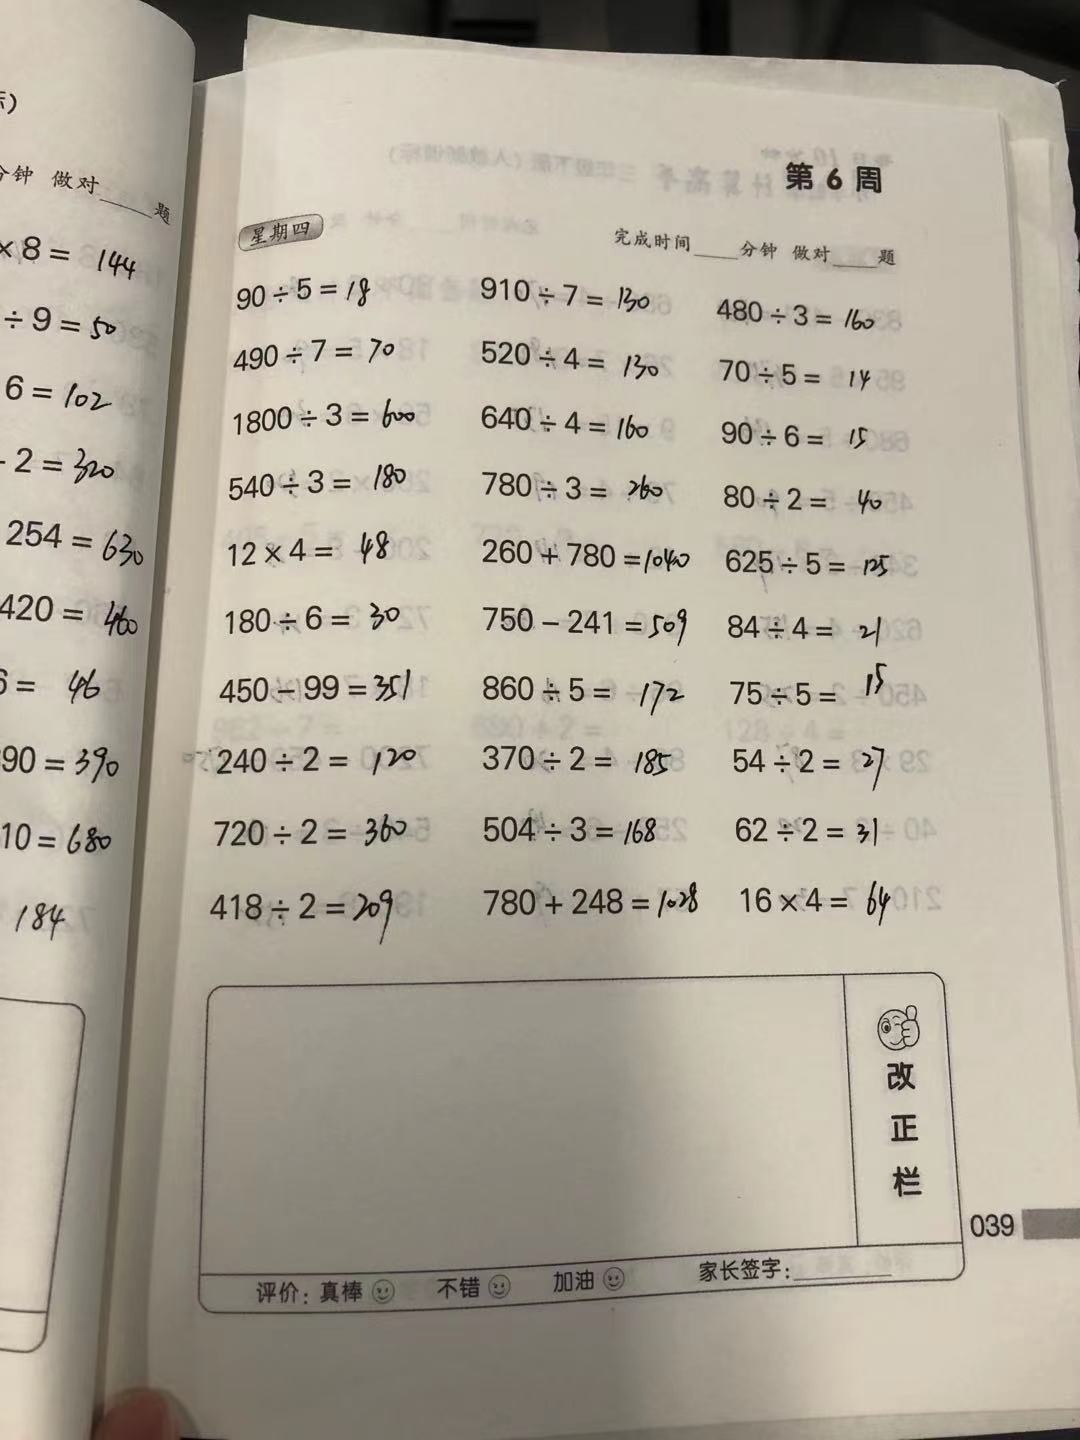equation: (189, 882, 421, 939), (479, 596, 719, 650), (474, 525, 707, 579), (196, 461, 459, 507), (486, 876, 716, 927), (465, 259, 670, 315), (473, 399, 681, 452), (461, 332, 684, 381), (725, 655, 905, 715), (191, 667, 427, 712), (476, 738, 687, 788), (222, 398, 457, 442), (464, 672, 704, 715), (719, 807, 917, 859), (476, 807, 681, 856), (221, 525, 419, 575), (711, 475, 908, 525), (210, 590, 422, 635), (722, 739, 917, 788), (725, 604, 916, 653), (704, 350, 896, 398), (470, 471, 694, 510), (729, 876, 904, 927), (199, 804, 422, 844), (717, 539, 923, 581), (699, 283, 876, 332), (217, 333, 413, 376), (196, 742, 421, 778), (219, 270, 387, 317), (704, 416, 894, 458)
